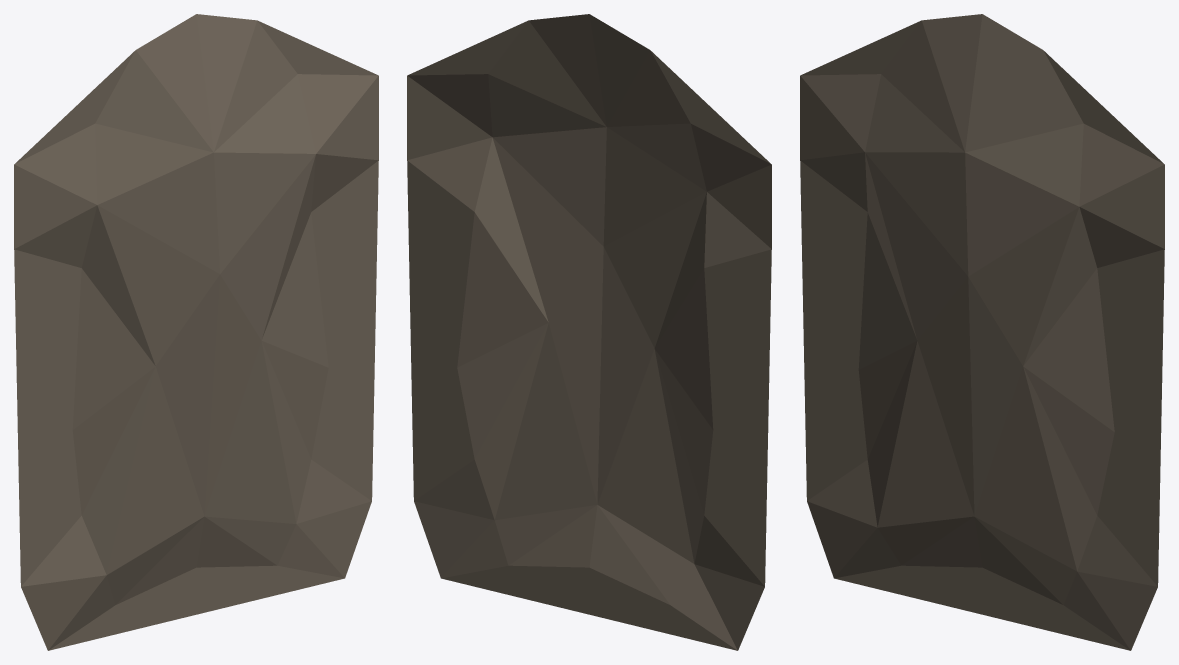
The model's file is OC_DECORATE_V2.OBJ.
3 renders of one model, left to right at view 1: azimuth 30°, elevation 25°; view 2: azimuth 150°, elevation 25°; view 3: azimuth 330°, elevation 25°, orthographic.
Visible parts, largest first — view 1: OC_DECORATE_V2; view 2: OC_DECORATE_V2; view 3: OC_DECORATE_V2.
Part boxes in pixels (x1,y1,x2,y2): OC_DECORATE_V2: [14, 14, 378, 650]; OC_DECORATE_V2: [407, 14, 771, 650]; OC_DECORATE_V2: [800, 14, 1164, 650].
Size of the model in its own units: 1.08 by 1.7 by 0.097.
